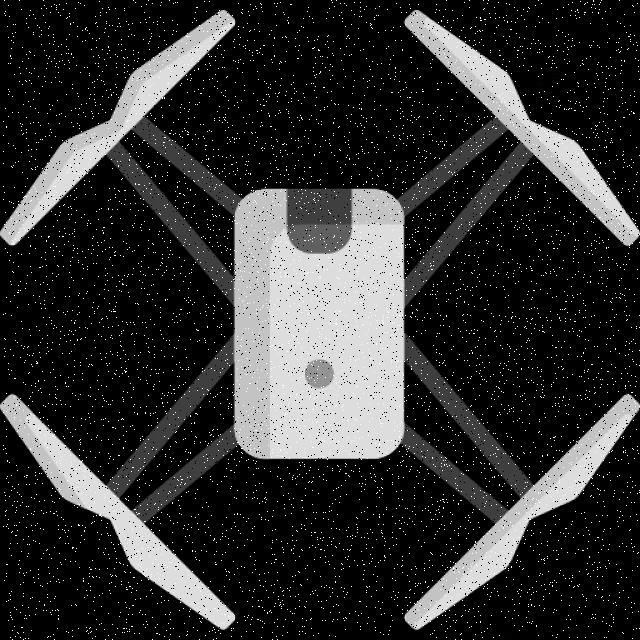drone: (4, 1, 640, 640)
